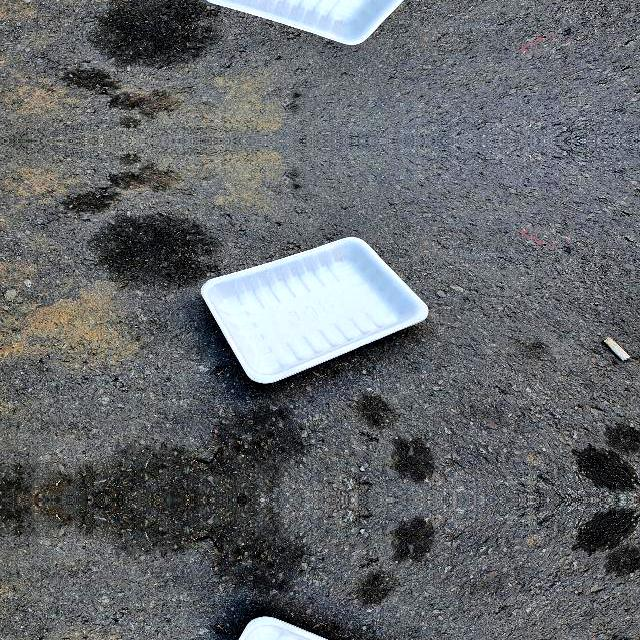Styrofoam: (203, 234, 431, 382), (201, 236, 429, 383), (203, 0, 431, 46), (207, 0, 403, 44)
